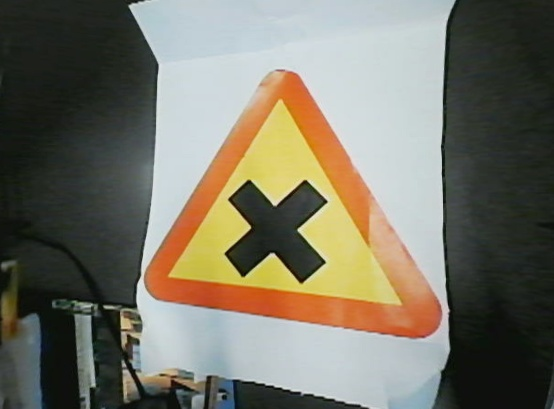junction: (142, 67, 446, 339)
